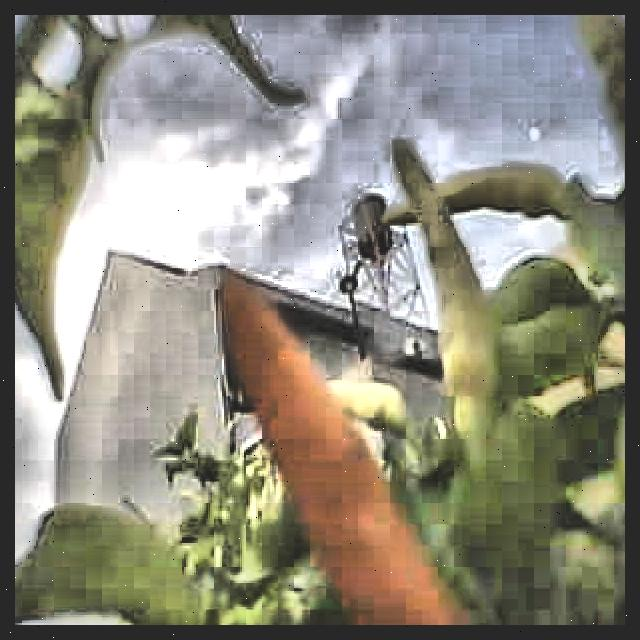Cabai: (229, 276, 339, 505)
